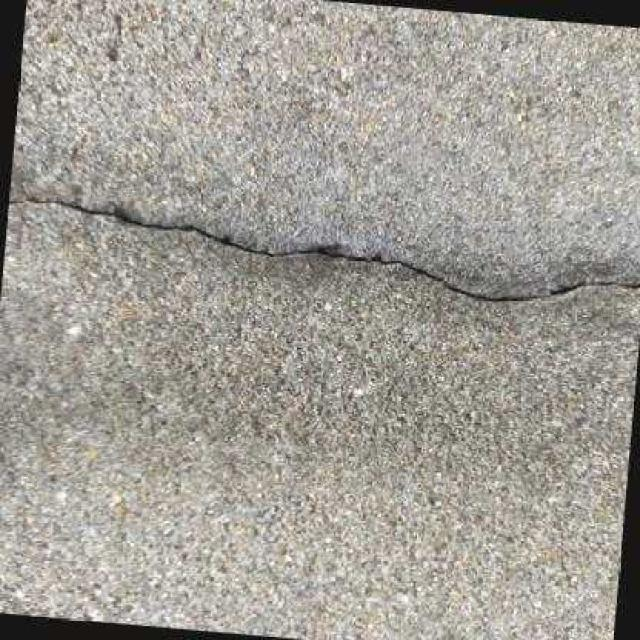D00: (9, 195, 640, 302)
